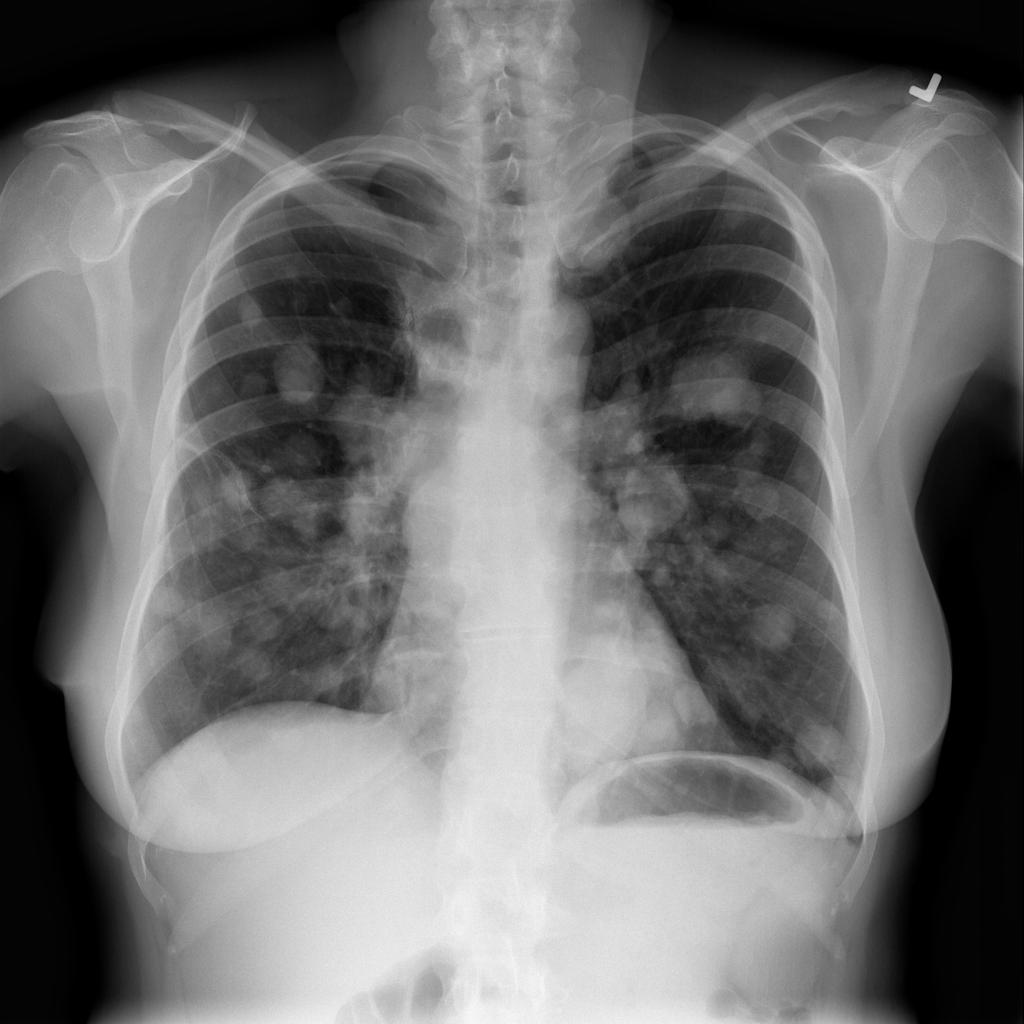nodule: (540, 640, 664, 773), (656, 329, 775, 441), (719, 440, 804, 525), (612, 460, 687, 541), (263, 329, 332, 417), (362, 644, 438, 723), (261, 473, 334, 547), (787, 711, 860, 781), (737, 591, 805, 662), (183, 593, 244, 669), (642, 682, 708, 748), (137, 567, 202, 634), (289, 643, 356, 708), (273, 416, 328, 473), (209, 458, 260, 512), (230, 644, 285, 693), (228, 283, 277, 336), (241, 596, 289, 648), (227, 355, 274, 408), (806, 583, 853, 633)
